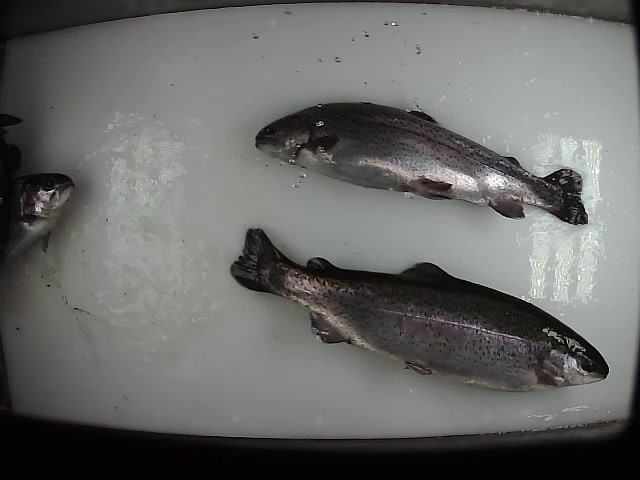fish: (226, 222, 610, 392), (252, 99, 590, 226)
